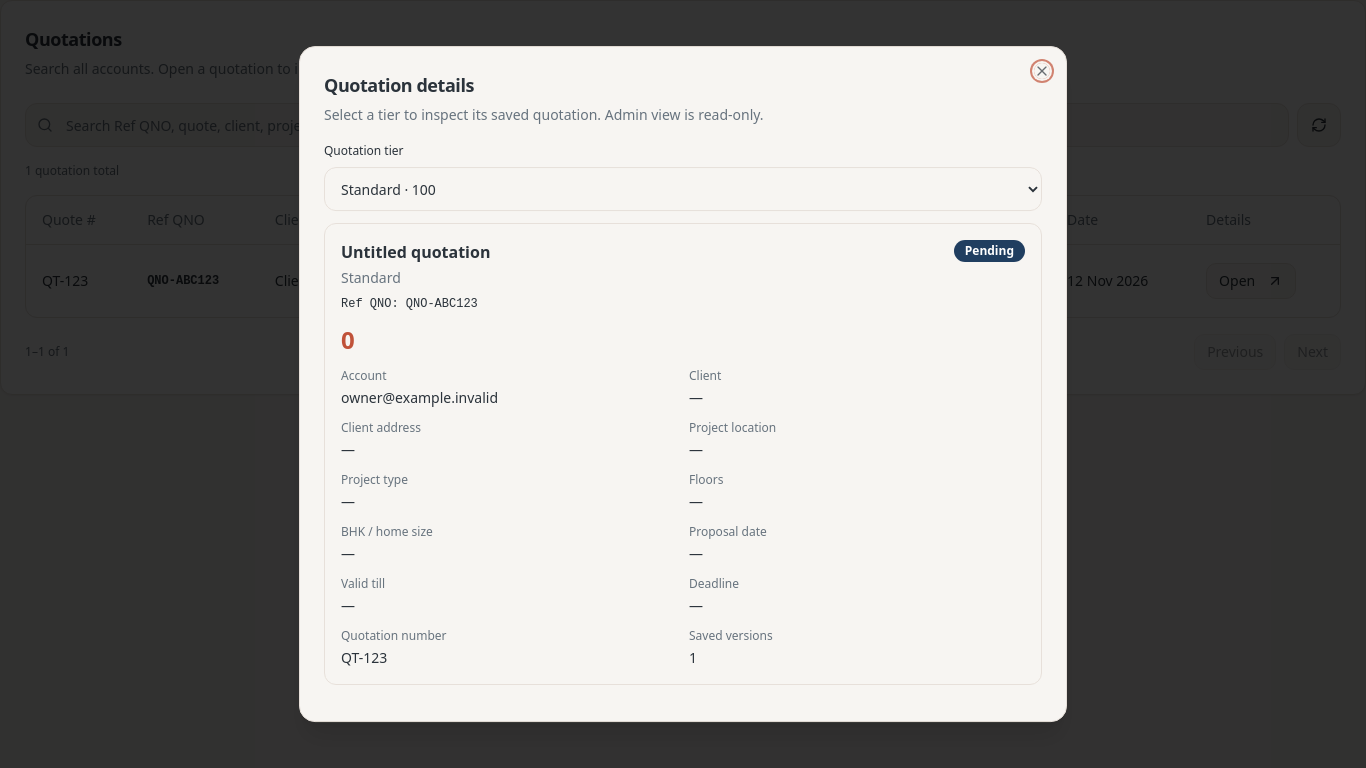
Scenario: opens a quotation from its card and lets admins inspect the selected tier
Earlier steps of the test are not shown.
Select "Luxury · 100" in the dropdown labelled "Quotation tier" at point(683, 189), box [324,167,1042,211]
(page scrolled)
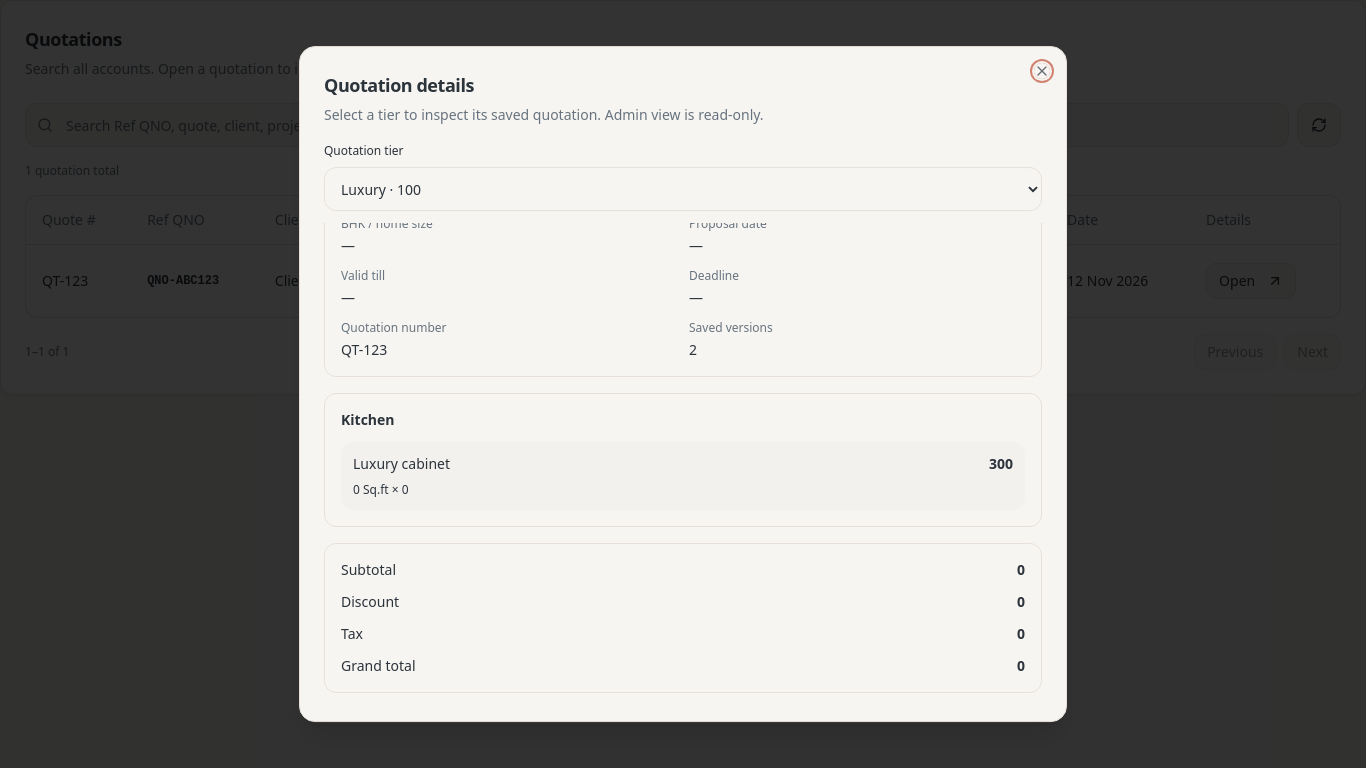
Expected: the text "Standard cabinet" is not shown
Now the heading "Luxury cabinet" is shown, box [353,454,450,474]
